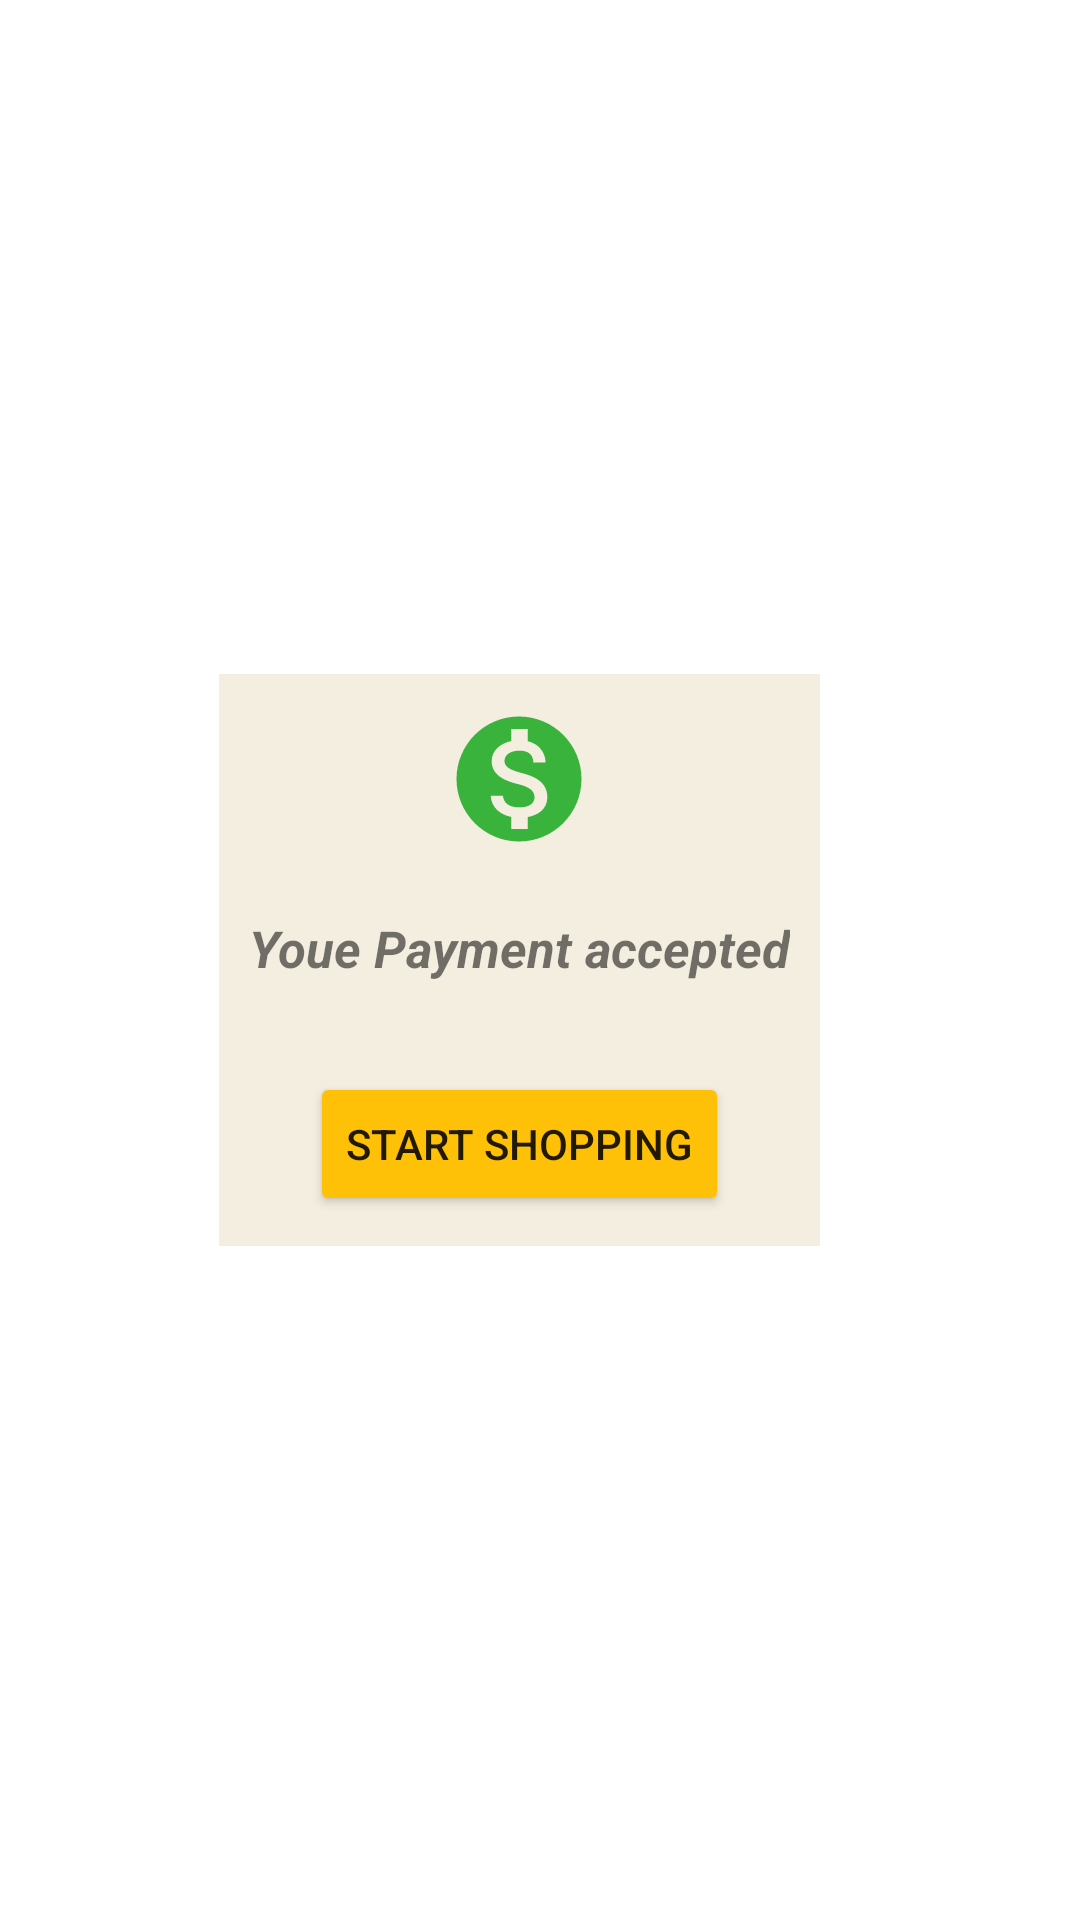

Screen size 1080px x 1920px. Icon name, then its center in pixels as [x,y]:
money: [519,779]
